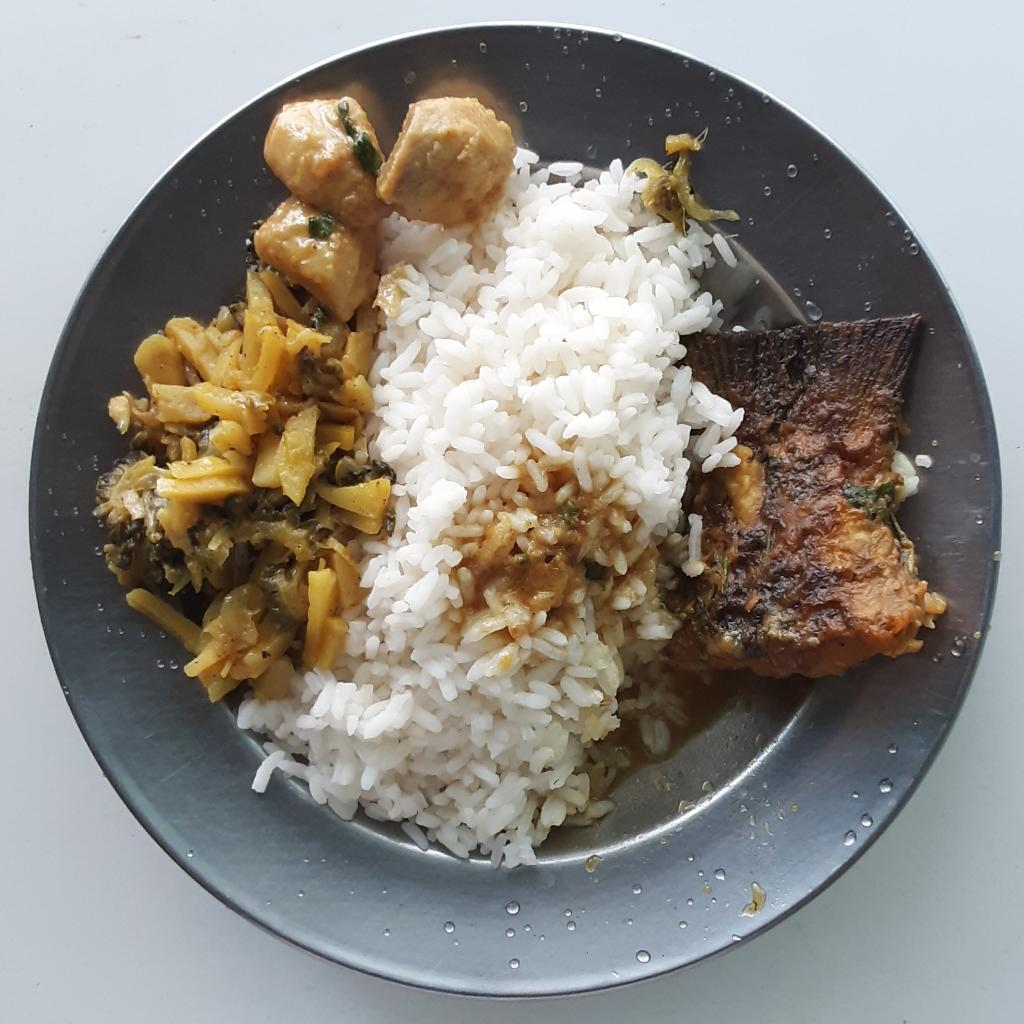fish: (662, 319, 946, 675)
kochu: (247, 93, 512, 318)
korola-vaji: (95, 266, 392, 701)
rice: (235, 135, 743, 868)
